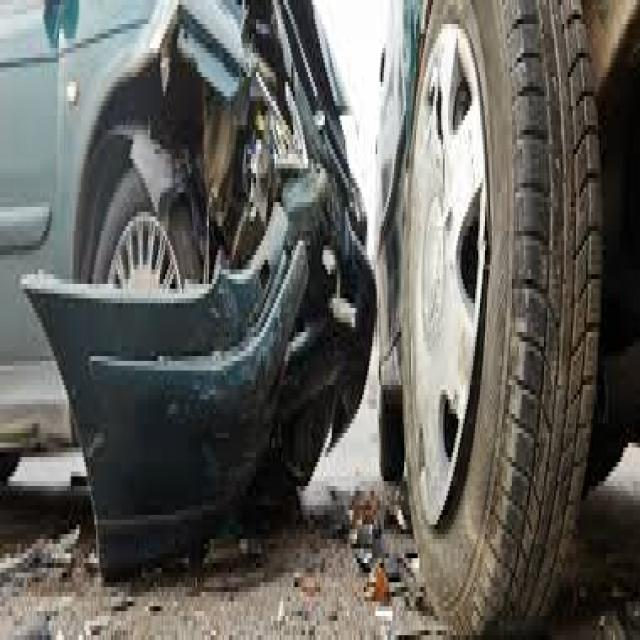accident: (6, 1, 640, 610)
